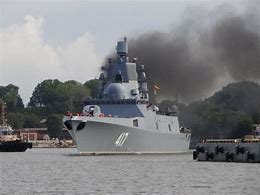smoke: (125, 30, 212, 98)
